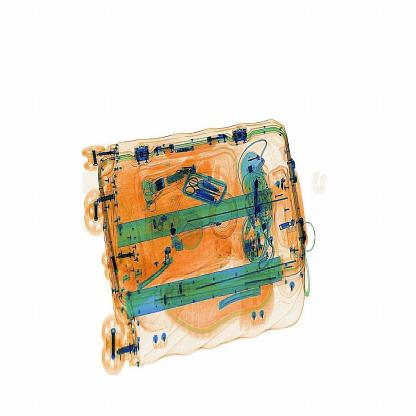knife: (251, 172, 271, 226)
